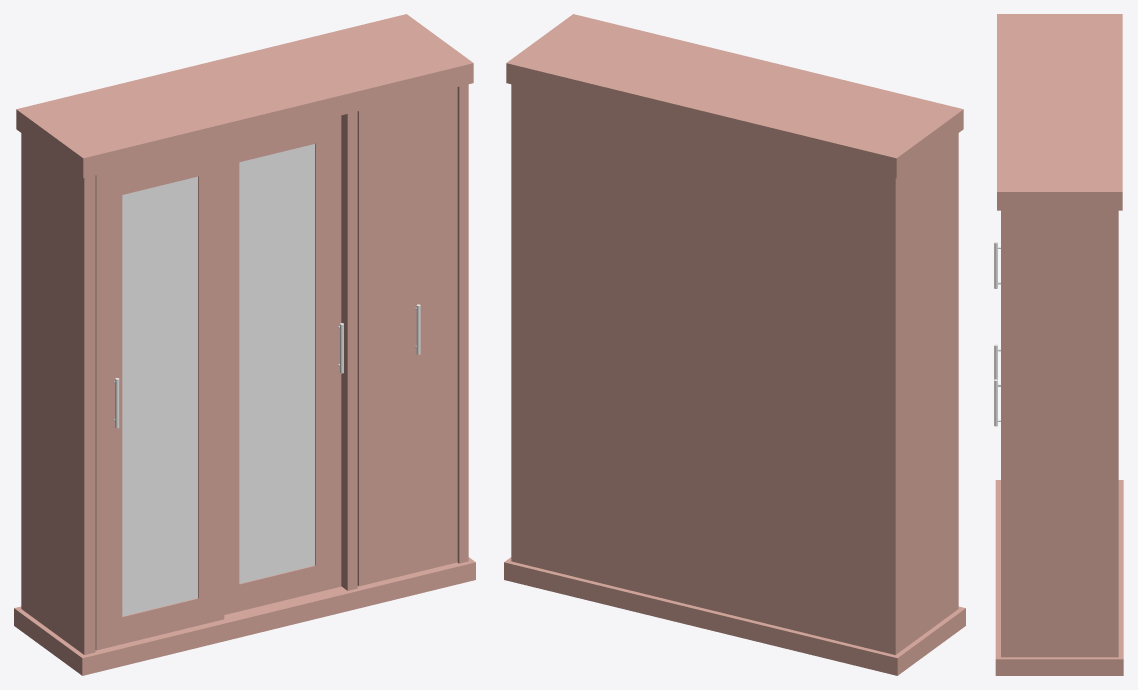
File: Lemari_Pink_Yudi.glb
The picture shows the model from 3 angles, left to right: view 1: azimuth 30°, elevation 25°; view 2: azimuth 150°, elevation 25°; view 3: azimuth 270°, elevation 25°; orthographic projection. The views are drawn at different scales.
Visible parts, largest first — view 1: Cube, Cylinder; view 2: Cube; view 3: Cube, Cylinder.
Part boxes in pixels (x1,y1,x2,y2): Cube: [14, 14, 475, 675]; Cylinder: [113, 304, 420, 428]; Cube: [504, 14, 965, 675]; Cube: [995, 14, 1123, 675]; Cylinder: [994, 242, 1000, 426].
Size of the model in its own units: 6.64 by 8.33 by 2.03.
